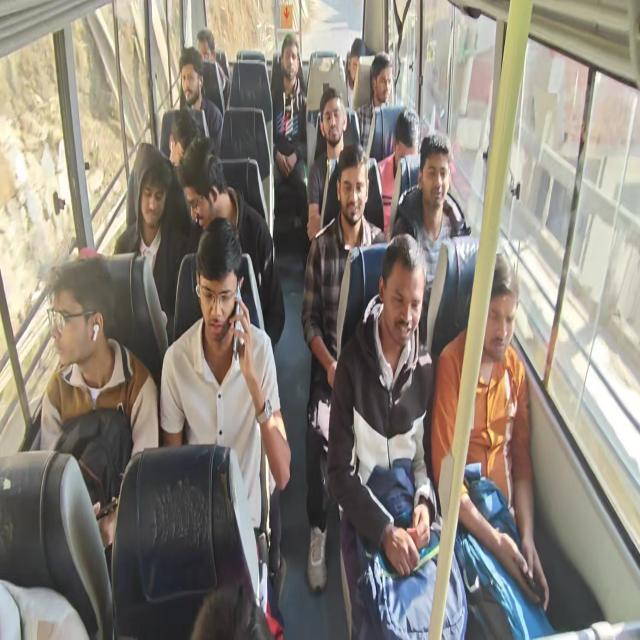person: (52, 260, 112, 364), (197, 238, 240, 347), (382, 245, 427, 348), (476, 262, 518, 356), (185, 164, 218, 233), (420, 144, 454, 204), (138, 156, 164, 226), (392, 114, 419, 159), (341, 168, 364, 215), (164, 116, 188, 160), (346, 41, 368, 88), (322, 105, 347, 143), (180, 61, 200, 102), (281, 41, 302, 79), (373, 60, 391, 101), (194, 31, 216, 54)
